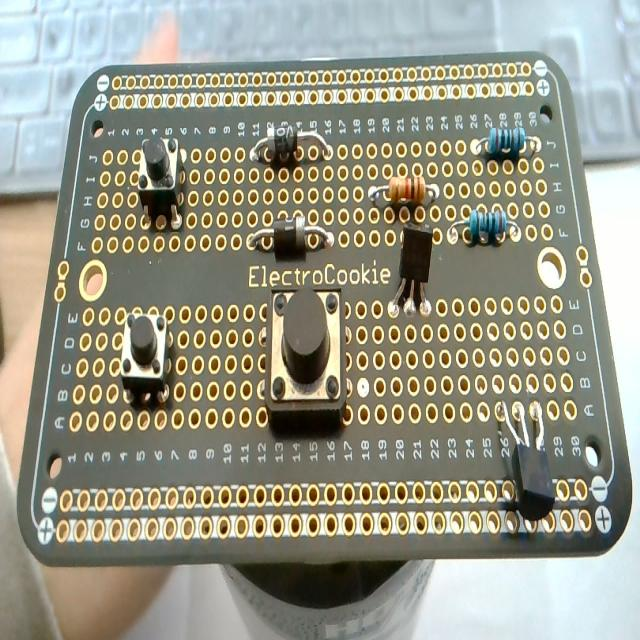diode: (249, 121, 333, 165), (249, 214, 336, 254), (367, 178, 437, 214)
resistor: (468, 207, 506, 244), (487, 126, 525, 158)
switch: (263, 283, 348, 421), (120, 309, 170, 403), (137, 134, 184, 227)
transistor: (493, 393, 561, 528), (388, 224, 437, 310)
